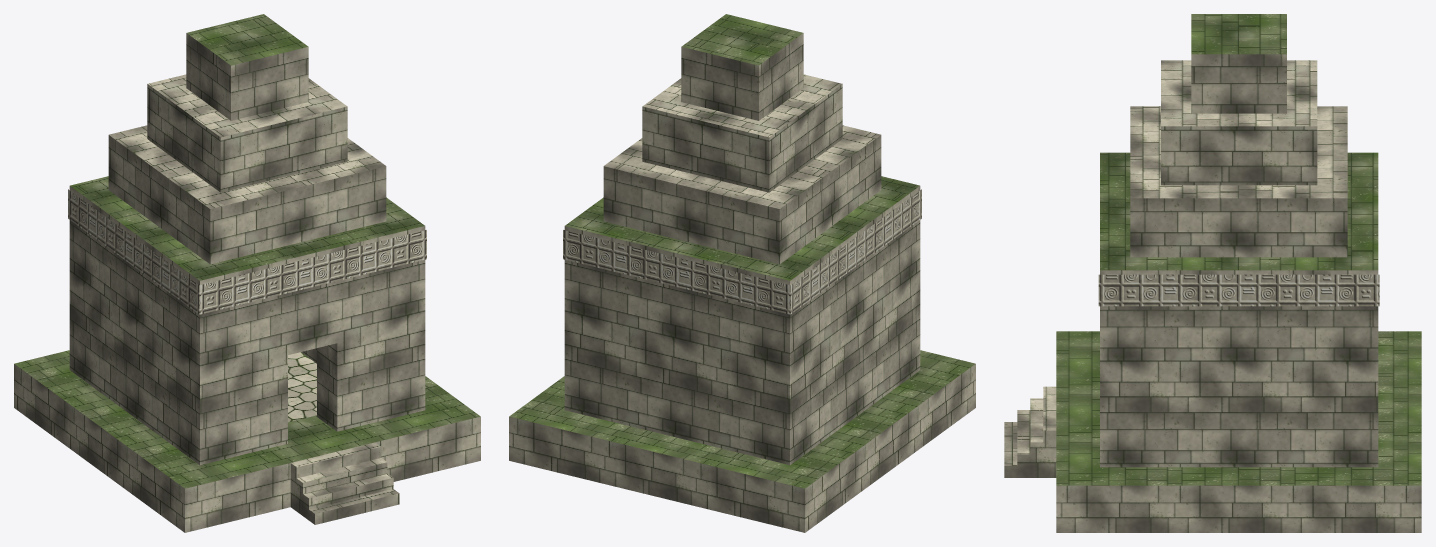
File: ruin-shrine.ruins-v1.lod0.glb
The picture shows the model from 3 angles, left to right: view 1: azimuth 30°, elevation 25°; view 2: azimuth 150°, elevation 25°; view 3: azimuth 270°, elevation 25°; orthographic projection. The views are drawn at different scales.
Visible parts, largest first — view 1: ruin-shrine; view 2: ruin-shrine; view 3: ruin-shrine.
Part boxes in pixels (x1,y1,x2,y2): ruin-shrine: (14, 14, 480, 532); ruin-shrine: (509, 14, 975, 532); ruin-shrine: (1004, 14, 1421, 532).
Bounding box in the file's own units: 8.4 × 10.7 × 9.6.
4 materials, 4 textured.
